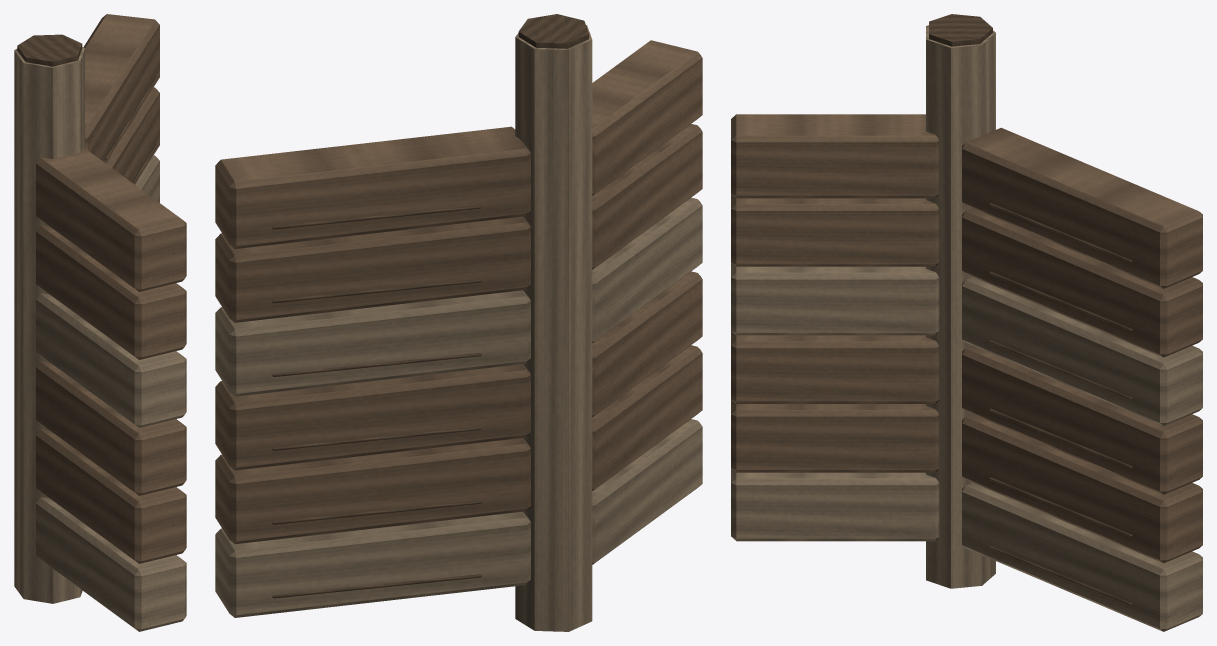
File: wall_mask_9.glb
3 views of the same model, side by side, from view 1: azimuth 30°, elevation 25°; view 2: azimuth 150°, elevation 25°; view 3: azimuth 270°, elevation 25° (orthographic). The views are drawn at different scales.
Visible parts, largest first — view 1: Weathered timber, Timber worn edges, Dark endgrain; view 2: Weathered timber, Timber worn edges, Dark endgrain; view 3: Weathered timber, Timber worn edges, Dark endgrain.
Part boxes in pixels (left/top/right/bottom): Weathered timber: left=36, top=14, right=186, bottom=563; Timber worn edges: left=14, top=47, right=186, bottom=631; Dark endgrain: left=17, top=34, right=158, bottom=183; Weathered timber: left=215, top=40, right=702, bottom=544; Timber worn edges: left=215, top=25, right=702, bottom=631; Dark endgrain: left=272, top=14, right=588, bottom=598; Weathered timber: left=731, top=114, right=1202, bottom=563; Timber worn edges: left=731, top=25, right=1202, bottom=631; Dark endgrain: left=929, top=14, right=1132, bottom=605.
Bounding box in the file's own units: 0.6463 × 1.39 × 1.09.
Materials: 3 (3 with a texture image).
